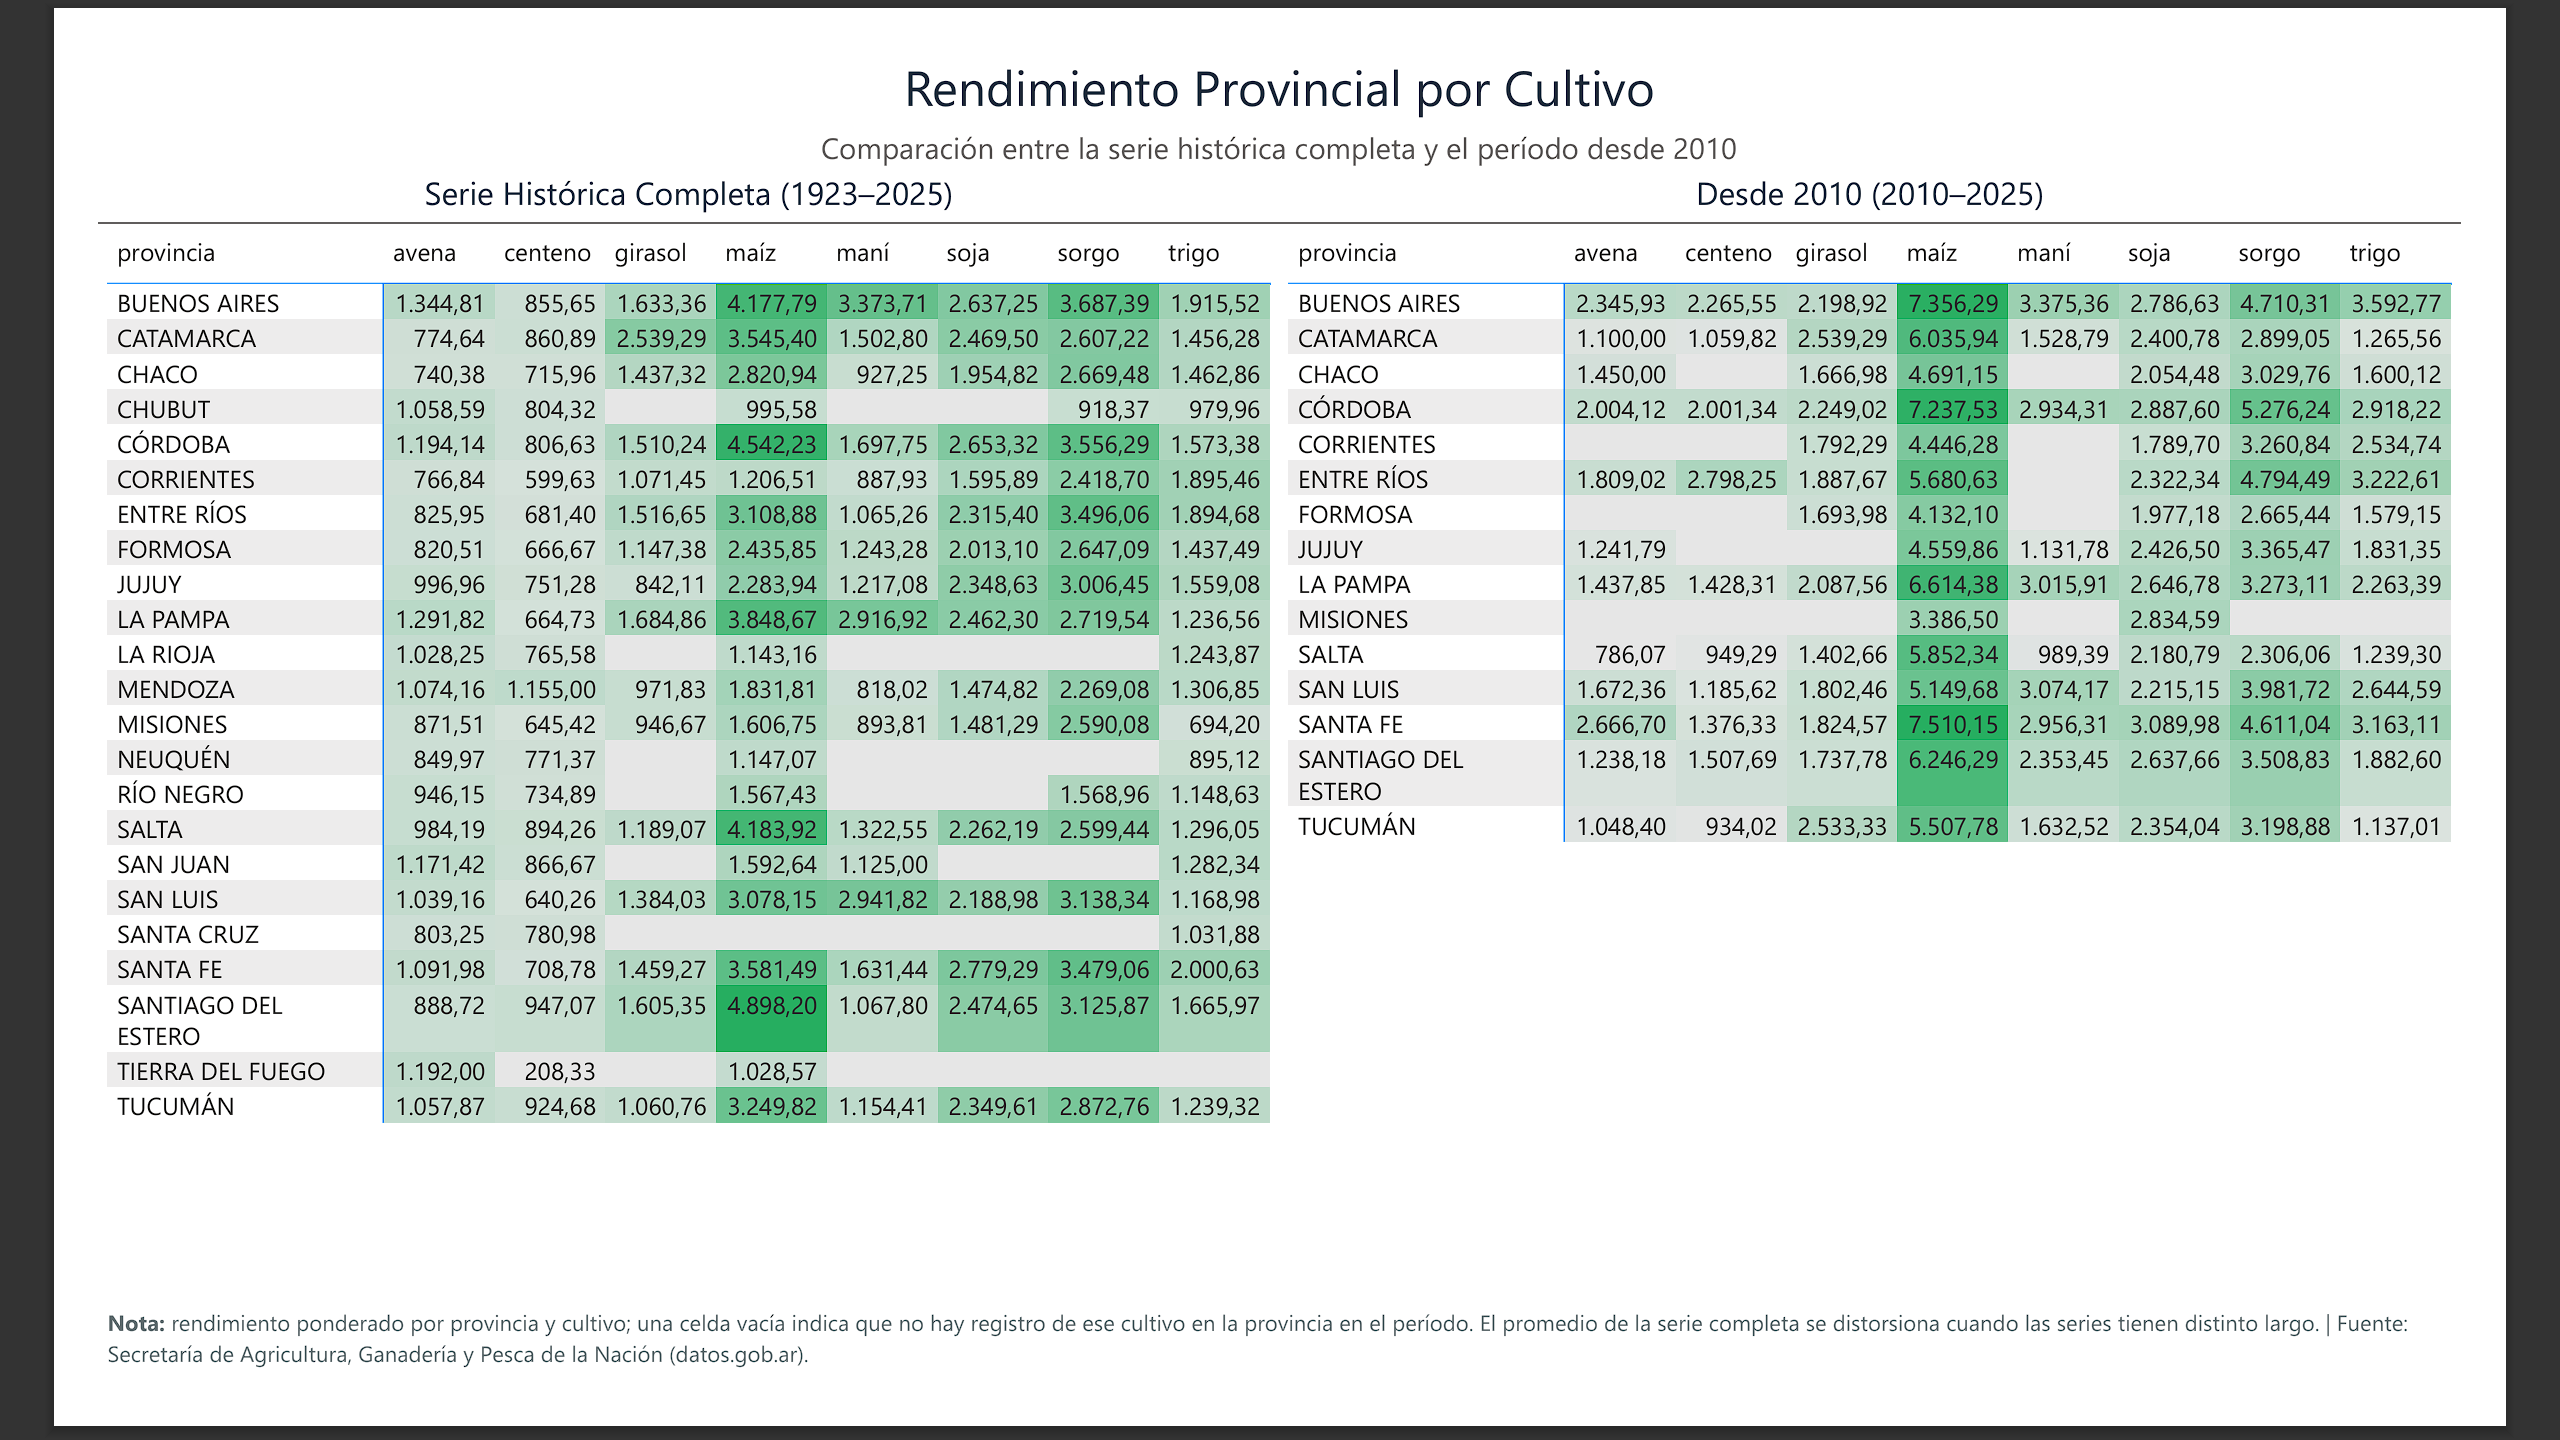

The dashboard page shown, as its layout file describes it:
{"tool":"powerbi","page":{"name":"Rendimiento por Provincia","canvas":[1280,720],"ordinal":1},"visuals":[{"type":"textbox","title":"Rendimiento Provincial por Cultivo","box":[0,0,1280,64.1],"z":0},{"type":"pivotTable","title":"Serie Histórica Completa (1923–2025)","fields":{"Rows":["Dim_Provincia.provincia"],"Columns":["Dim_Cultivo.cultivo"],"Values":["Sum(03-rendimiento_provincia_cultivo.rendimiento_ponderado_kgxha)"]},"box":[0,64.1,640,610],"z":1000},{"type":"pivotTable","title":"Desde 2010 (2010–2025)","fields":{"Rows":["Dim_Provincia.provincia"],"Columns":["Dim_Cultivo.cultivo"],"Values":["Sum(04-rendimiento_provincia_cultivo_reciente.rendimiento_ponderado_kgxha)"]},"box":[640,64,640,610],"z":2000},{"type":"textbox","box":[0,674,1280,45.8],"z":3000}]}

Visuals, with their boxes in screenshot pixels (x1, y1, x2, y2), scaled from the page's 1280x720 canvas onto the 2560x1440 screenshot:
"Rendimiento Provincial por Cultivo" textbox: bbox=(0, 0, 2559, 128)
"Serie Histórica Completa (1923–2025)" pivotTable: bbox=(0, 128, 1280, 1348)
"Desde 2010 (2010–2025)" pivotTable: bbox=(1280, 128, 2559, 1348)
textbox: bbox=(0, 1348, 2559, 1439)
